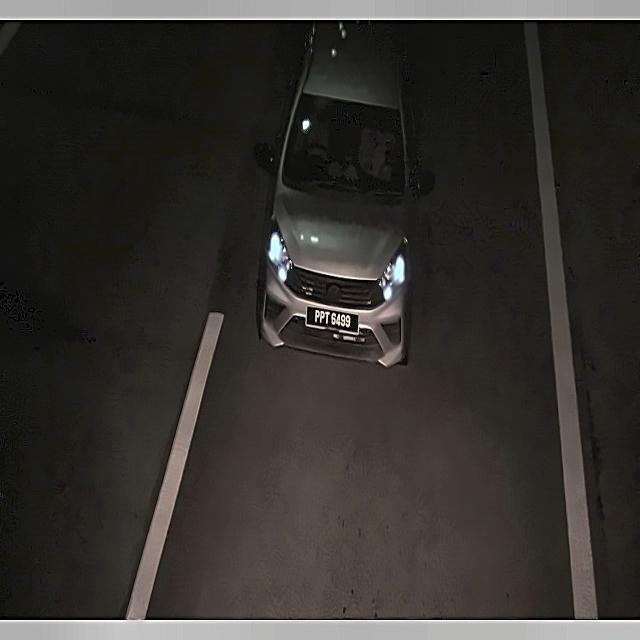car: (304, 302, 366, 343)
